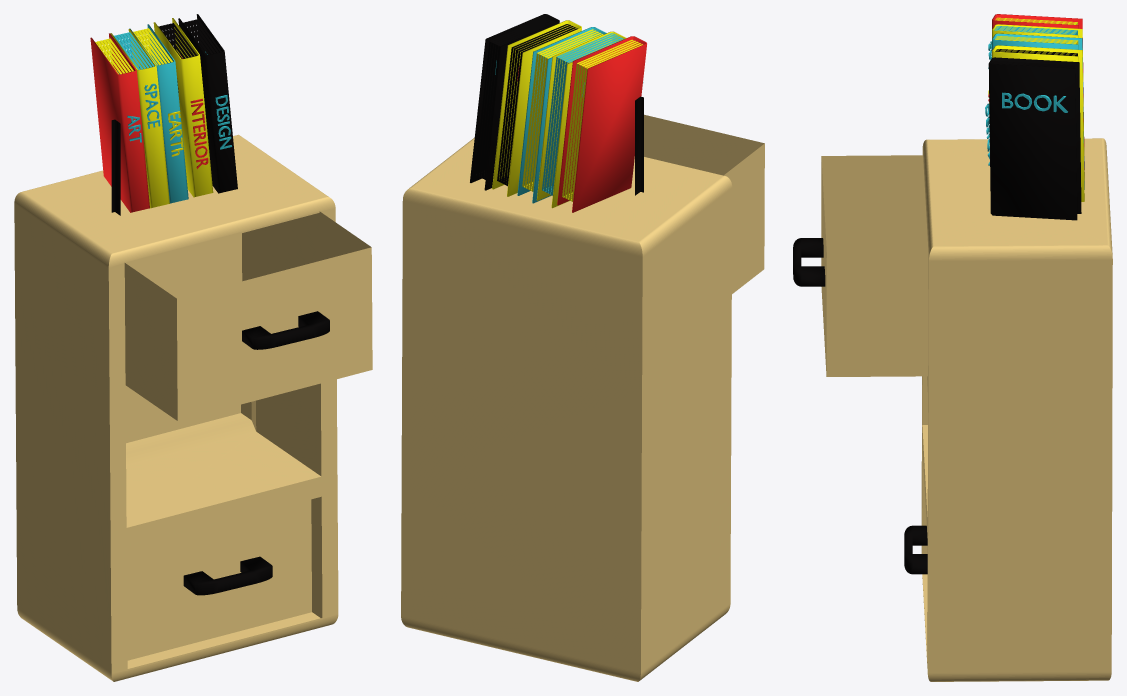
Rendered from bookshelf.glb.
3 views of the same model, side by side, from view 1: azimuth 30°, elevation 25°; view 2: azimuth 150°, elevation 25°; view 3: azimuth 270°, elevation 25° (orthographic). The views are drawn at different scales.
Parts seen in each view (by area): view 1: Cube.766; view 2: Cube.766; view 3: Cube.766.
Part boxes in pixels (left/top/right/bottom): Cube.766: left=14, top=14, right=372, bottom=681; Cube.766: left=401, top=14, right=764, bottom=681; Cube.766: left=793, top=14, right=1112, bottom=681.
Size of the model in its own units: 1.32 by 3.09 by 1.53.
1 material, 1 textured.
